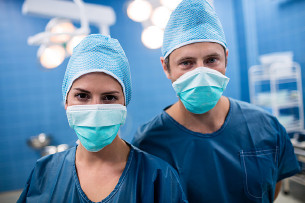face_mask: (66, 75, 123, 149), (169, 42, 226, 113)
